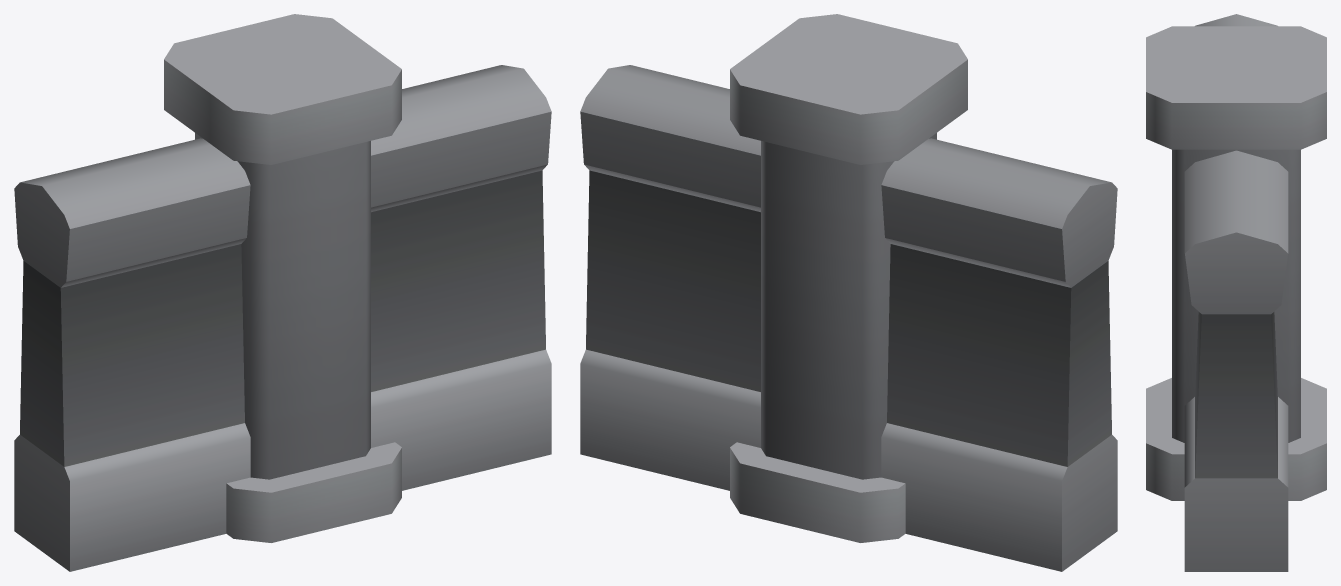
File: stone-wall-column.glb
3 views of the same model, side by side, from view 1: azimuth 30°, elevation 25°; view 2: azimuth 150°, elevation 25°; view 3: azimuth 270°, elevation 25° (orthographic). The views are drawn at different scales.
Parts seen in each view (by area): view 1: stone-wall-column; view 2: stone-wall-column; view 3: stone-wall-column.
Part boxes in pixels (x1=…): stone-wall-column: x1=14, y1=14, x2=551, y2=571; stone-wall-column: x1=580, y1=14, x2=1117, y2=571; stone-wall-column: x1=1146, y1=14, x2=1326, y2=571.
Bounding box in the file's own units: 1.5 × 1.28 × 0.525.
1 material, 1 textured.
